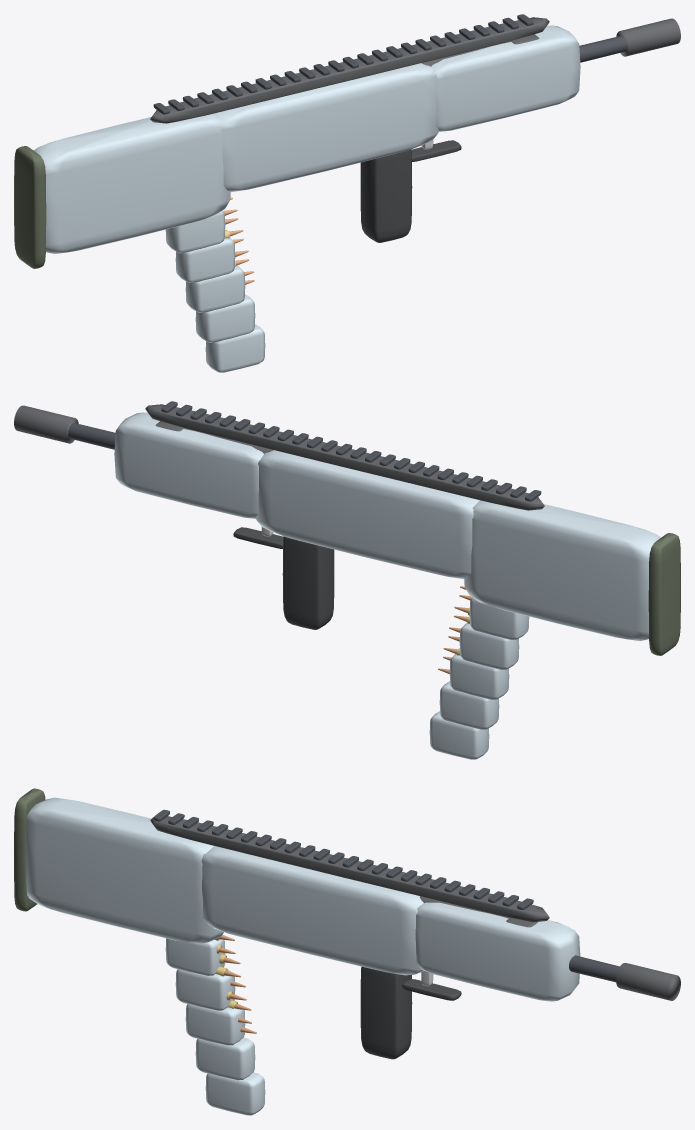
File: malyuk-glass.glb
3 views of the same model, one above another, from view 1: azimuth 30°, elevation 25°; view 2: azimuth 150°, elevation 25°; view 3: azimuth 330°, elevation 25° (orthographic).
Visible parts, largest first — view 1: chassis_rear_stock, chassis_mid_receiver, chassis_forend, top_rail_base, pistol_grip, buttpad, mag_seg_4, mag_seg_3, mag_seg_2, mag_seg_1, mag_seg_0, muzzle_brake (+2 smaller); view 2: chassis_rear_stock, chassis_mid_receiver, chassis_forend, top_rail_base, pistol_grip, buttpad, mag_seg_4, mag_seg_3, mag_seg_1, mag_seg_2, mag_seg_0, muzzle_brake (+2 smaller); view 3: chassis_rear_stock, chassis_mid_receiver, chassis_forend, top_rail_base, pistol_grip, mag_seg_4, mag_seg_3, mag_seg_2, mag_seg_1, buttpad, mag_seg_0, muzzle_brake (+2 smaller).
Part boxes in pixels (bbox=[...]): chassis_rear_stock: bbox=[34, 113, 230, 254]; chassis_mid_receiver: bbox=[215, 63, 438, 192]; chassis_forend: bbox=[431, 25, 580, 131]; top_rail_base: bbox=[150, 17, 549, 123]; pistol_grip: bbox=[360, 149, 412, 242]; buttpad: bbox=[14, 146, 46, 268]; mag_seg_4: bbox=[205, 324, 265, 372]; mag_seg_3: bbox=[195, 294, 255, 342]; mag_seg_2: bbox=[185, 265, 245, 312]; mag_seg_1: bbox=[175, 237, 235, 282]; mag_seg_0: bbox=[165, 210, 225, 253]; muzzle_brake: bbox=[616, 18, 680, 56]; chassis_rear_stock: bbox=[464, 500, 660, 641]; chassis_mid_receiver: bbox=[256, 450, 479, 579]; chassis_forend: bbox=[114, 412, 263, 518]; top_rail_base: bbox=[145, 404, 544, 510]; pistol_grip: bbox=[282, 536, 334, 629]; buttpad: bbox=[648, 533, 680, 655]; mag_seg_4: bbox=[429, 711, 489, 759]; mag_seg_3: bbox=[439, 681, 499, 729]; mag_seg_1: bbox=[459, 623, 519, 669]; mag_seg_2: bbox=[449, 654, 509, 699]; mag_seg_0: bbox=[469, 597, 529, 640]; muzzle_brake: bbox=[14, 405, 78, 443]; chassis_rear_stock: bbox=[26, 797, 223, 943]; chassis_mid_receiver: bbox=[201, 846, 424, 975]; chassis_forend: bbox=[415, 902, 580, 1001]; top_rail_base: bbox=[150, 816, 549, 921]; pistol_grip: bbox=[360, 966, 412, 1059]; mag_seg_4: bbox=[205, 1072, 265, 1115]; mag_seg_3: bbox=[195, 1037, 255, 1080]; mag_seg_2: bbox=[185, 1004, 245, 1045]; mag_seg_1: bbox=[175, 969, 235, 1010]; buttpad: bbox=[14, 788, 45, 911]; mag_seg_0: bbox=[165, 938, 225, 975]; muzzle_brake: bbox=[616, 963, 680, 1000].
Bounding box in the file's own units: 0.716 × 0.291 × 0.046.
